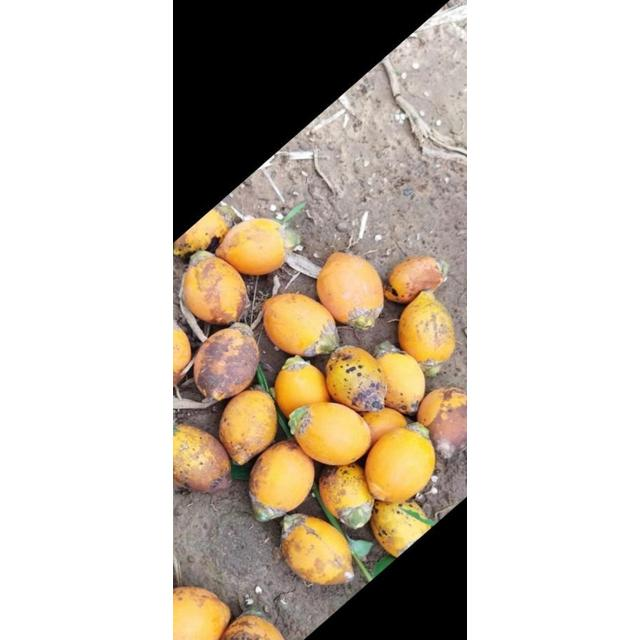good: (363, 425, 435, 503), (279, 514, 355, 584), (248, 440, 314, 520), (290, 402, 372, 466), (316, 252, 384, 328), (193, 326, 260, 402), (182, 254, 248, 324), (397, 290, 455, 368), (217, 390, 277, 464), (325, 346, 389, 414), (266, 302, 338, 356), (217, 219, 286, 275), (318, 463, 376, 529), (174, 426, 232, 492), (274, 356, 332, 420), (370, 498, 434, 556), (416, 387, 466, 457), (375, 346, 425, 414), (173, 586, 230, 640), (384, 256, 446, 304), (174, 208, 232, 258), (360, 408, 406, 448), (222, 613, 288, 639)
